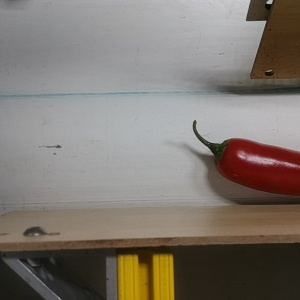Cut Point: (205, 135, 246, 177)
